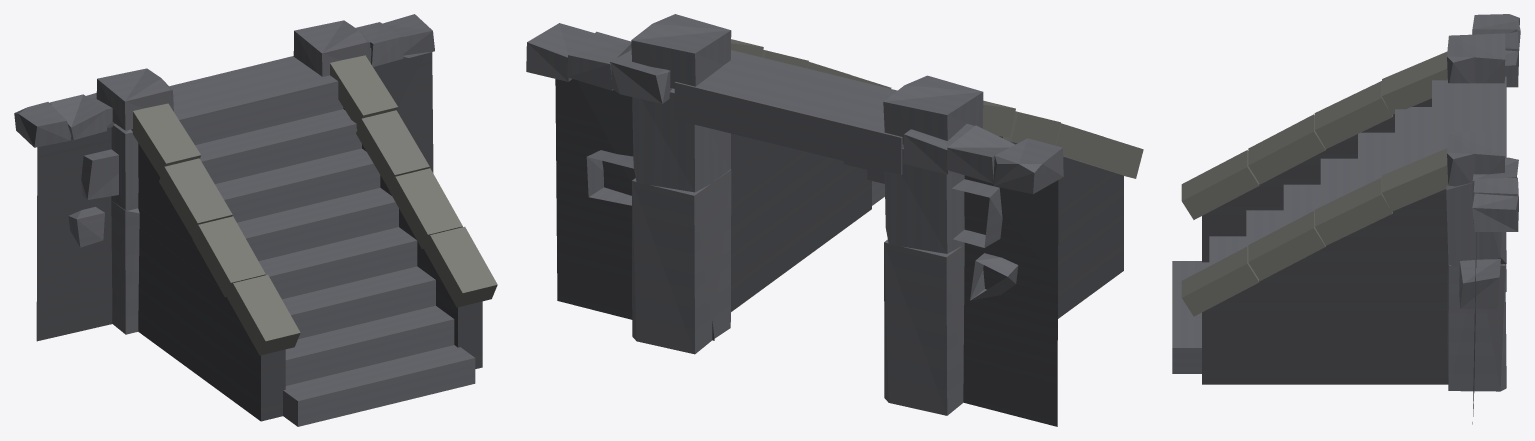
The model's file is Wall_Stairs_LOD1.fbx.
The picture shows the model from 3 angles, left to right: view 1: azimuth 30°, elevation 25°; view 2: azimuth 150°, elevation 25°; view 3: azimuth 270°, elevation 25°; orthographic projection. The views are drawn at different scales.
Parts seen in each view (by area): view 1: polySurface10634; view 2: polySurface10634; view 3: polySurface10634.
Boxes of the visible parts, x1,y1,x2,y2 form: polySurface10634: (14, 14, 497, 426); polySurface10634: (526, 14, 1143, 426); polySurface10634: (1172, 14, 1520, 424).
Size of the model in its own units: 812 by 457 by 610.
